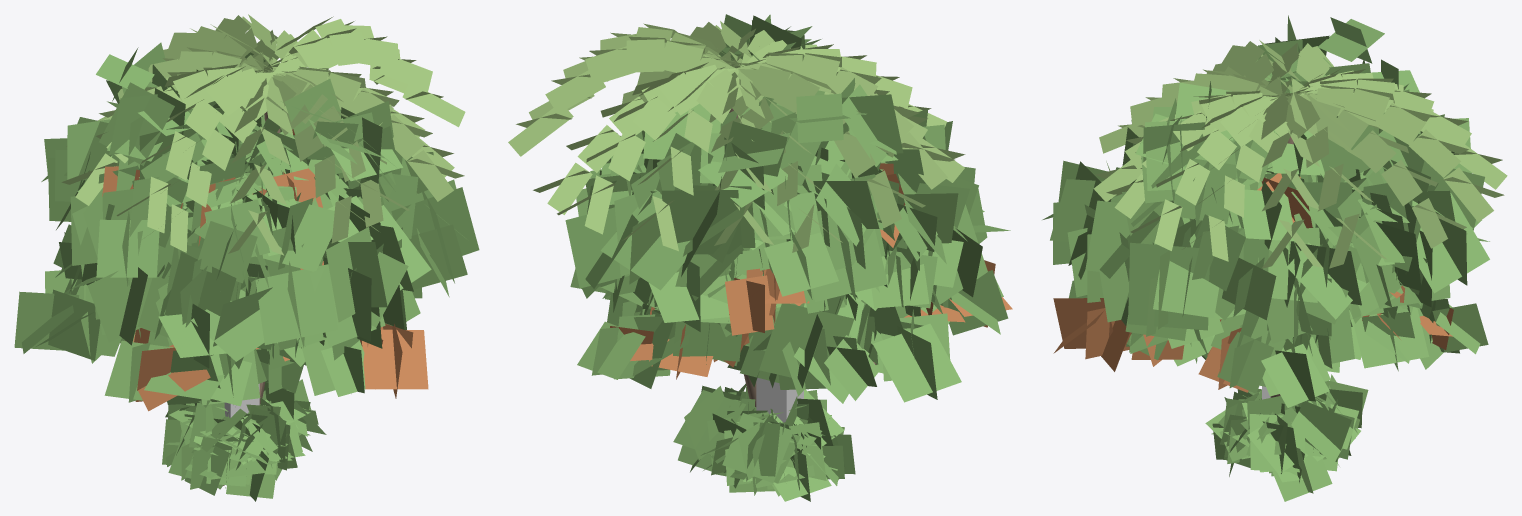
The model's file is trees.glb.
3 views of the same model, side by side, from view 1: azimuth 30°, elevation 25°; view 2: azimuth 150°, elevation 25°; view 3: azimuth 270°, elevation 25° (orthographic). The views are drawn at different scales.
Parts seen in each view (by area): view 1: Arv_copa, Arv_coqueiro, Arv_mangueira, Arv_amendoeira, Arbusto_b, Arbusto_a, Arv_calcada, Arv_copa2; view 2: Arv_copa, Arv_coqueiro, Arv_amendoeira, Arv_mangueira, Arv_copa2, Arbusto_a, Arbusto_b, Col_Arv_mangueira_0, Arv_calcada; view 3: Arv_mangueira, Arv_coqueiro, Arv_copa, Arv_amendoeira, Arbusto_a, Arv_copa2, Arbusto_b.
Part boxes in pixels (x1,y1,x2,y2): Arv_copa: (41,42,433,345); Arv_coqueiro: (61,14,465,404); Arv_mangueira: (94,80,479,485); Arv_amendoeira: (14,129,428,411); Arbusto_b: (162,401,305,501); Arbusto_a: (165,379,326,455); Arv_calcada: (254,348,303,393); Arv_copa2: (64,155,295,370); Arv_copa: (632,14,987,336); Arv_coqueiro: (508,21,965,406); Arv_amendoeira: (570,163,1012,403); Arv_mangueira: (565,121,1010,348); Arv_copa2: (610,192,921,396); Arbusto_a: (673,383,843,490); Arbusto_b: (727,386,855,501); Col_Arv_mangueira_0: (756,377,803,422); Arv_calcada: (727,329,779,387); Arv_mangueira: (1042,118,1489,348); Arv_coqueiro: (1093,40,1507,397); Arv_copa: (1111,15,1444,323); Arv_amendoeira: (1053,136,1489,407); Arbusto_a: (1240,374,1368,501); Arv_copa2: (1190,245,1410,379); Arbusto_b: (1205,389,1339,476).
Size of what is drawn, in the model's own units: 10.11 by 9.69 by 9.82.
